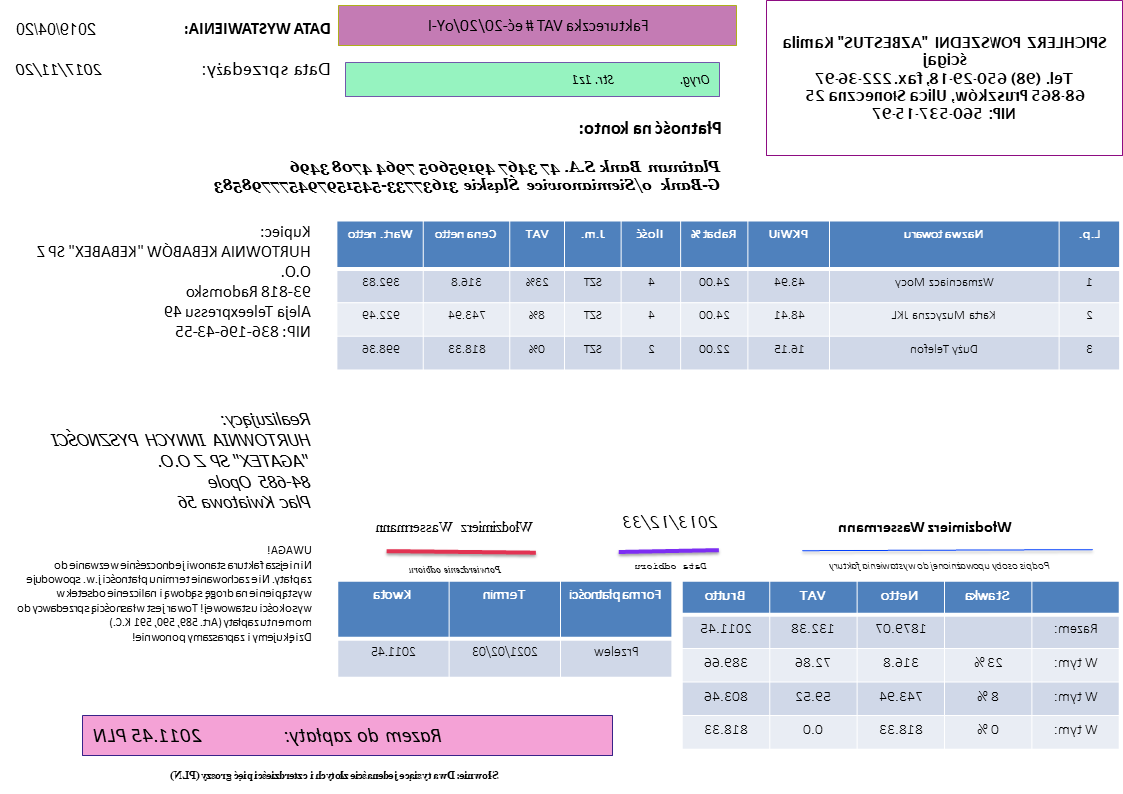Table: (334, 218, 1122, 372), (680, 579, 1121, 751), (334, 579, 674, 679)
TextBox: (34, 222, 314, 343), (12, 542, 315, 645), (778, 32, 1110, 124), (48, 406, 315, 516), (208, 155, 724, 199), (90, 722, 447, 750), (166, 765, 503, 785), (426, 14, 654, 36), (834, 514, 1016, 538), (826, 556, 1054, 574), (181, 15, 332, 40), (577, 116, 724, 141), (371, 516, 538, 536), (199, 59, 332, 81), (569, 69, 712, 89), (620, 510, 722, 533), (14, 58, 106, 80), (12, 17, 99, 38), (630, 556, 713, 574), (406, 562, 505, 577)
